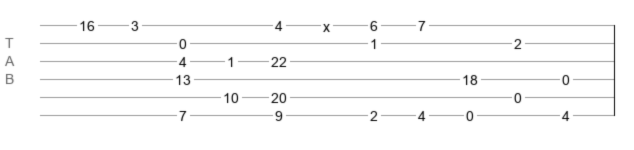0: (179, 36, 187, 46), (466, 108, 474, 118), (514, 90, 522, 100), (562, 72, 570, 82)
1: (227, 54, 235, 64), (370, 36, 378, 46)
10: (223, 90, 239, 100)
13: (175, 72, 191, 82)
16: (79, 18, 95, 28)
18: (462, 72, 478, 82)
2: (370, 108, 378, 118), (514, 36, 522, 46)
20: (271, 90, 287, 100)
22: (271, 54, 287, 64)
3: (131, 18, 139, 28)
4: (179, 54, 187, 64), (275, 18, 283, 28), (418, 108, 426, 118), (562, 108, 570, 118)
6: (370, 18, 378, 28)
7: (179, 108, 187, 118), (418, 18, 426, 28)
9: (275, 108, 283, 118)
x: (323, 19, 330, 27)
